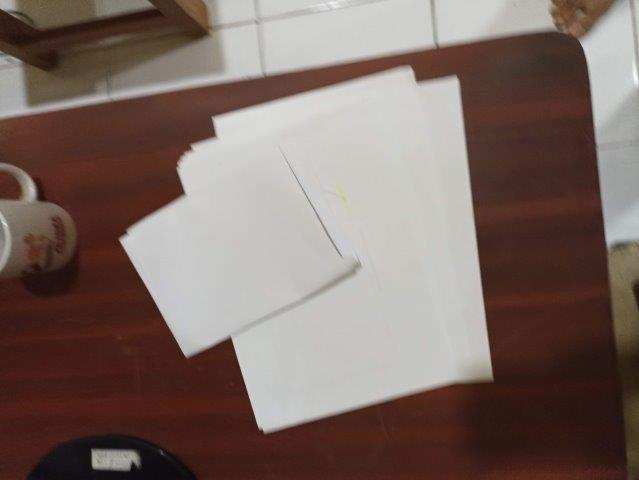kertas: (119, 65, 494, 433)
